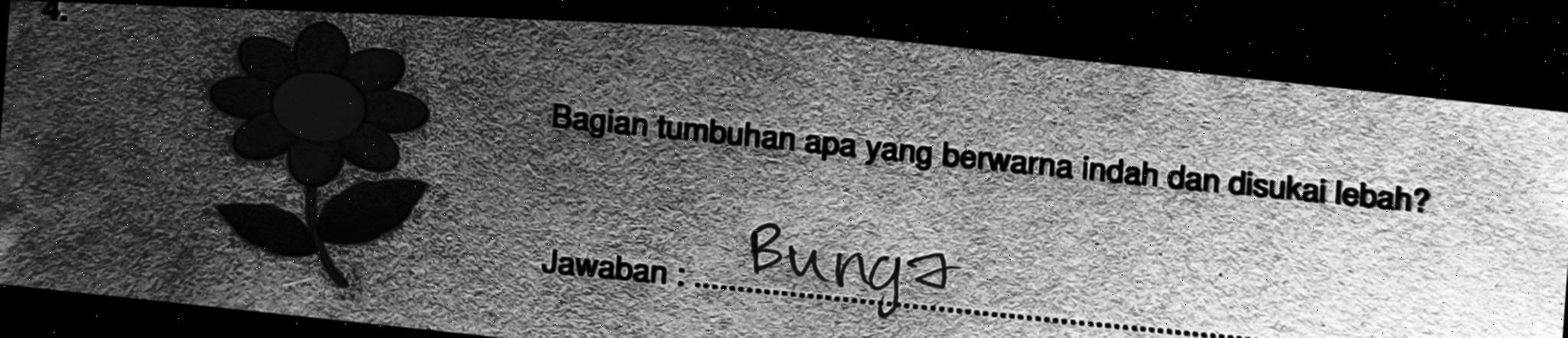jawaban: (736, 214, 964, 325)
